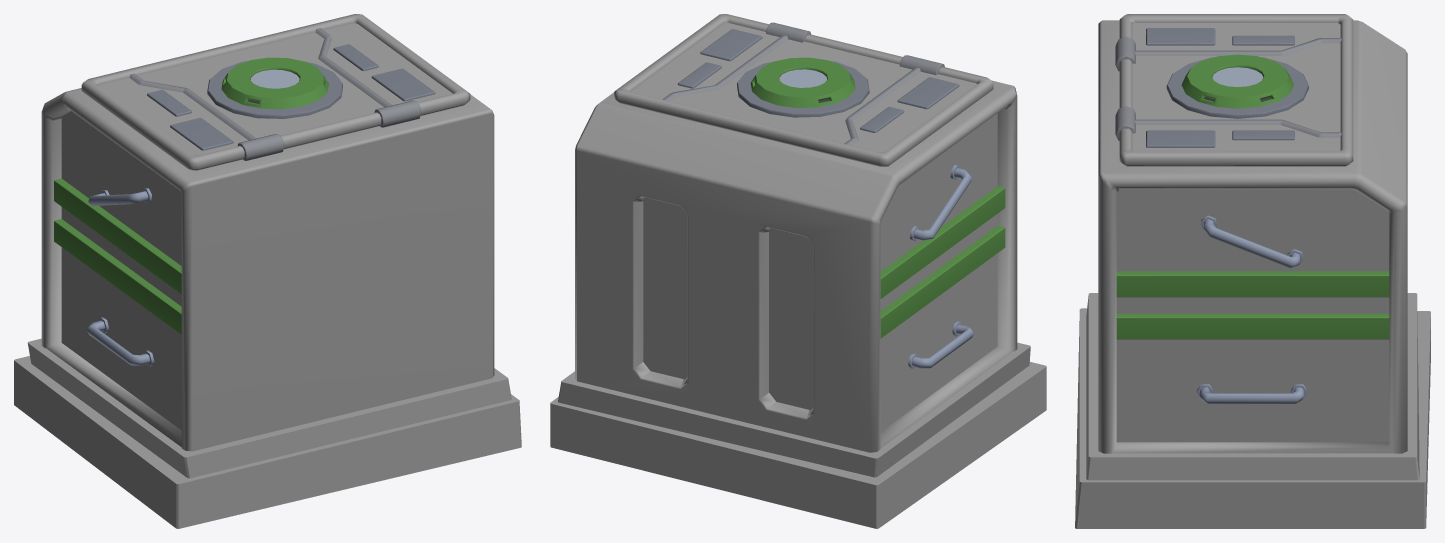
File: Trush_subs.fbx
3 renders of one model, left to right at view 1: azimuth 30°, elevation 25°; view 2: azimuth 150°, elevation 25°; view 3: azimuth 270°, elevation 25°, orthographic. The views are drawn at different scales.
Visible parts, largest first — view 1: Base, Ground, Top, Details; view 2: Base, Ground, Top, Details; view 3: Base, Top, Ground, Details.
Part boxes in pixels (box(x1,y1,x2,y2)): Base: box(41, 88, 494, 451); Ground: box(14, 338, 521, 528); Top: box(81, 14, 470, 170); Details: box(54, 178, 181, 366); Base: box(575, 80, 1017, 452); Ground: box(550, 342, 1046, 528); Top: box(614, 14, 993, 166); Details: box(880, 165, 1005, 368); Base: box(1098, 20, 1407, 453); Top: box(1115, 14, 1353, 166); Ground: box(1075, 293, 1430, 528); Details: box(1116, 215, 1389, 403).
Size of the model in its own units: 29.1 by 28.63 by 25.15.
